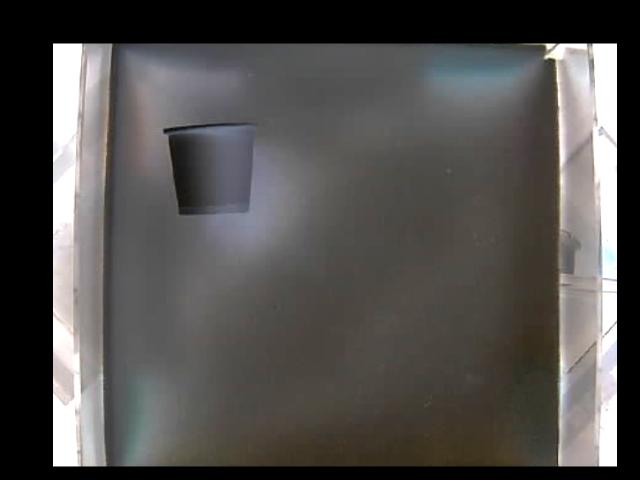Cup: (162, 120, 256, 216)
